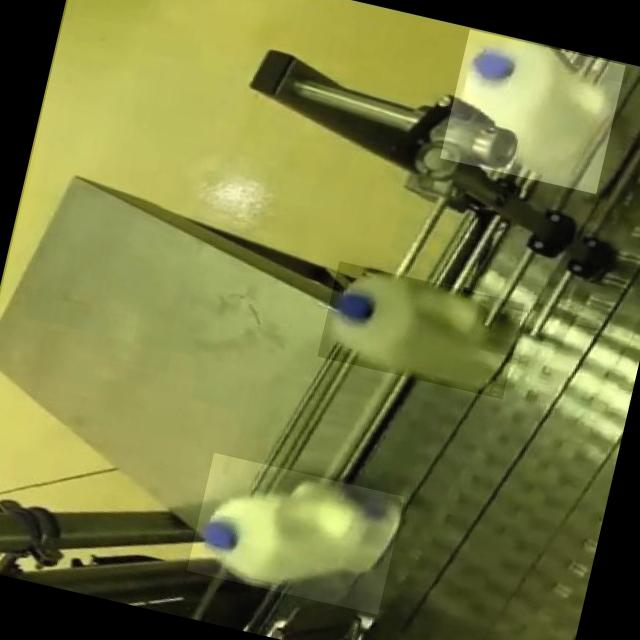milk: (194, 460, 422, 626), (308, 256, 532, 415), (440, 36, 620, 196)
